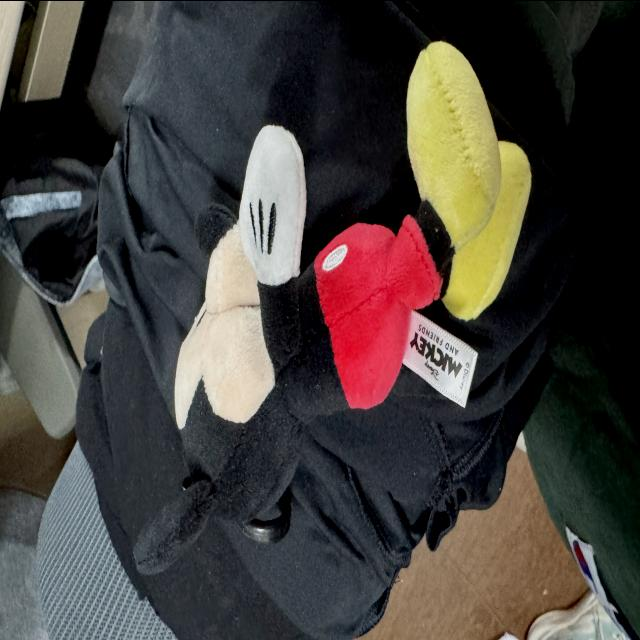mickey: (135, 42, 530, 572)
